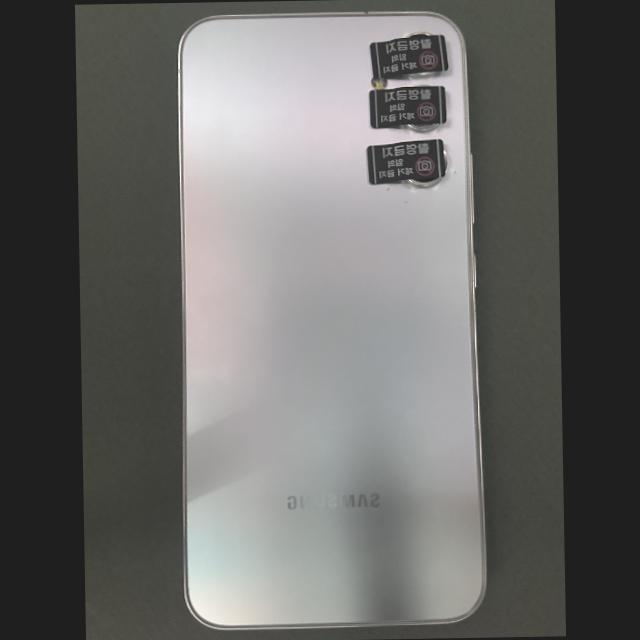lens: (404, 177, 441, 188), (405, 123, 439, 131), (408, 71, 436, 78)
phone: (176, 9, 487, 630)
sticker: (366, 139, 444, 184), (370, 35, 446, 78), (368, 86, 445, 128)
